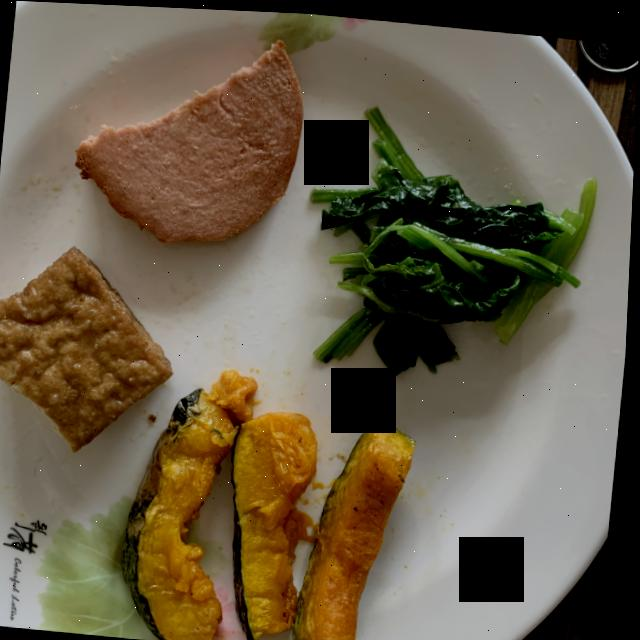Spam: (77, 37, 304, 241)
coin: (579, 33, 639, 66)
egg tofu: (0, 246, 176, 449)
mustard greens: (313, 103, 598, 369)
pumpkin: (127, 368, 418, 640)
